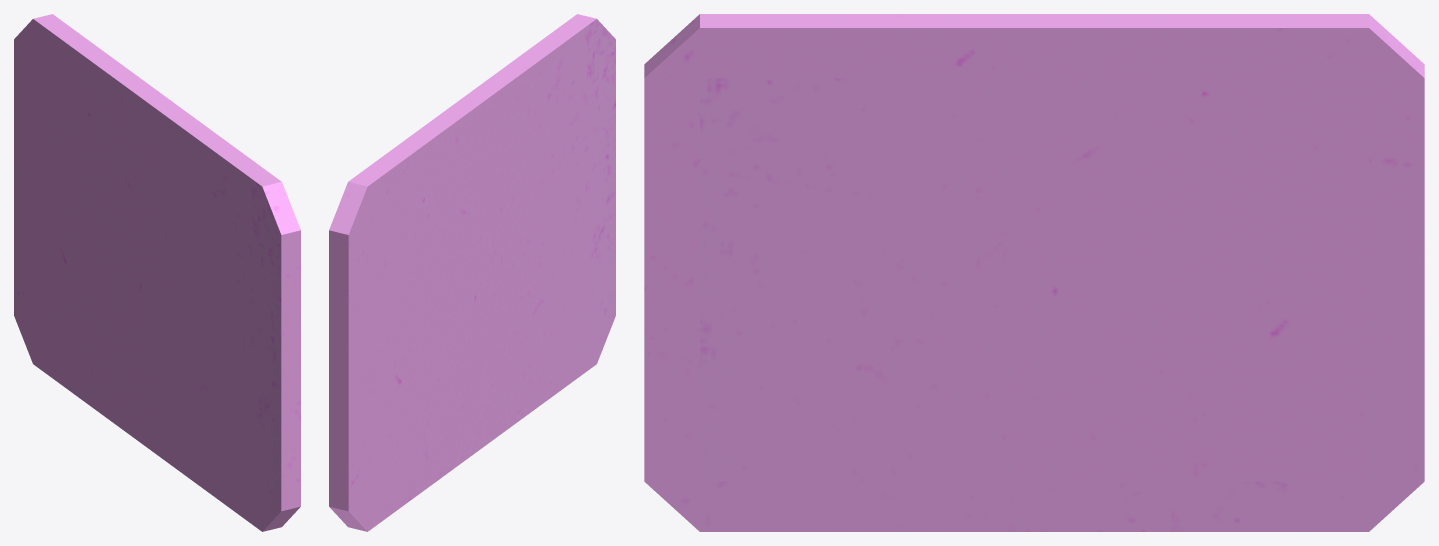
File: AirDuctEndCap_01_SM_Low.fbx
3 views of the same model, side by side, from view 1: azimuth 30°, elevation 25°; view 2: azimuth 150°, elevation 25°; view 3: azimuth 270°, elevation 25° (orthographic). The views are drawn at different scales.
Parts seen in each view (by area): view 1: EndCap; view 2: EndCap; view 3: EndCap.
Part boxes in pixels (box(x1,y1,x2,y2)): EndCap: box(14, 14, 300, 531); EndCap: box(329, 14, 615, 531); EndCap: box(644, 14, 1424, 531).
Size of the model in its own units: 4.08 by 68.67 by 96.36.
1 material, 1 textured.
